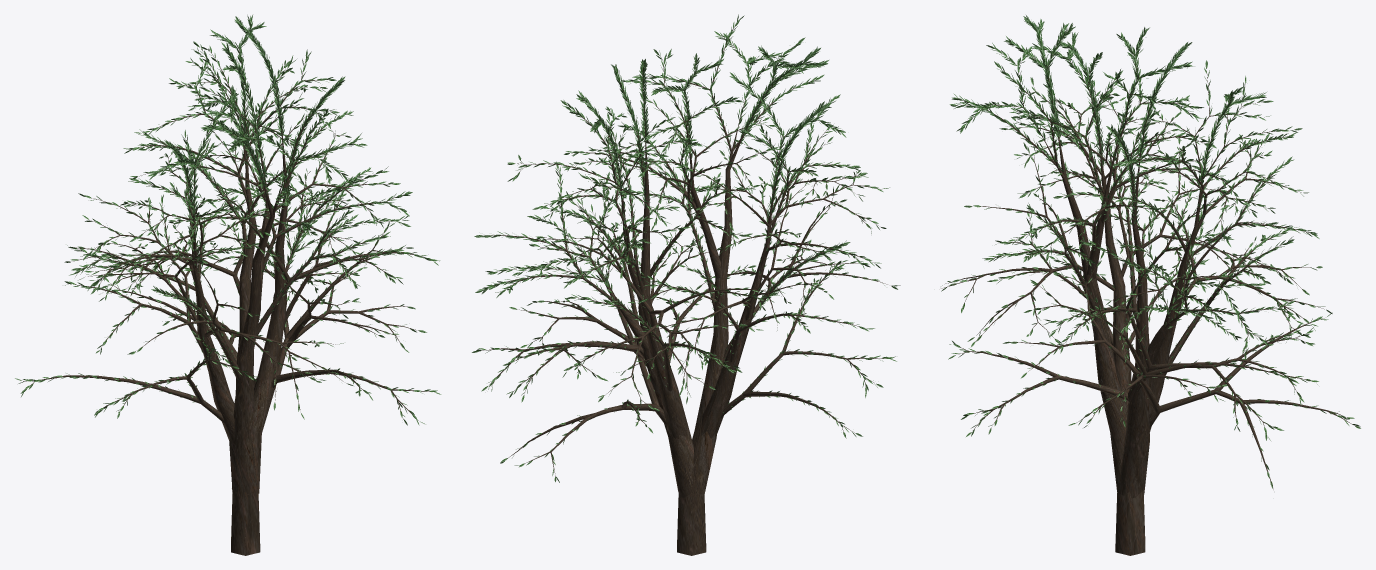
The model's file is tree_2.glb.
3 renders of one model, left to right at view 1: azimuth 30°, elevation 25°; view 2: azimuth 150°, elevation 25°; view 3: azimuth 270°, elevation 25°, orthographic. The views are drawn at different scales.
Visible parts, largest first — view 1: tree.001, leaves.001; view 2: tree.001, leaves.001; view 3: tree.001, leaves.001.
Part boxes in pixels (x1,y1,x2,y2): tree.001: (23, 47, 428, 555); leaves.001: (15, 15, 441, 425); tree.001: (482, 27, 887, 555); leaves.001: (472, 14, 900, 482); tree.001: (941, 32, 1351, 555); leaves.001: (941, 15, 1360, 488).
Bounding box in the file's own units: 11.18 × 14.64 × 11.05.
Materials: 2 (2 with a texture image).
